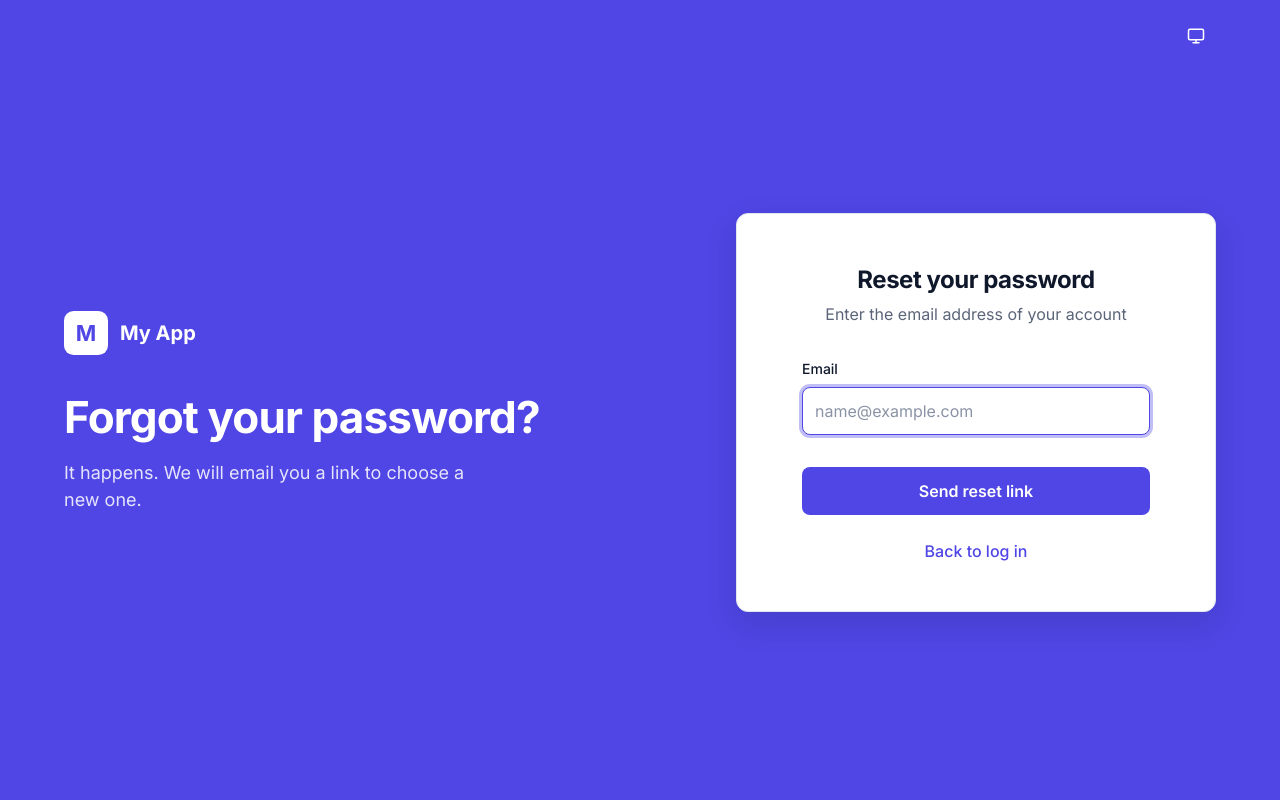
Test: forgot password › sends the email and shows the same message for every address
Check: the heading "Reset your password" is shown, box [857,264,1095,294]
In the field labelled "Email": [976, 410] box [802,386,1150,434], type "  ada@example.com "
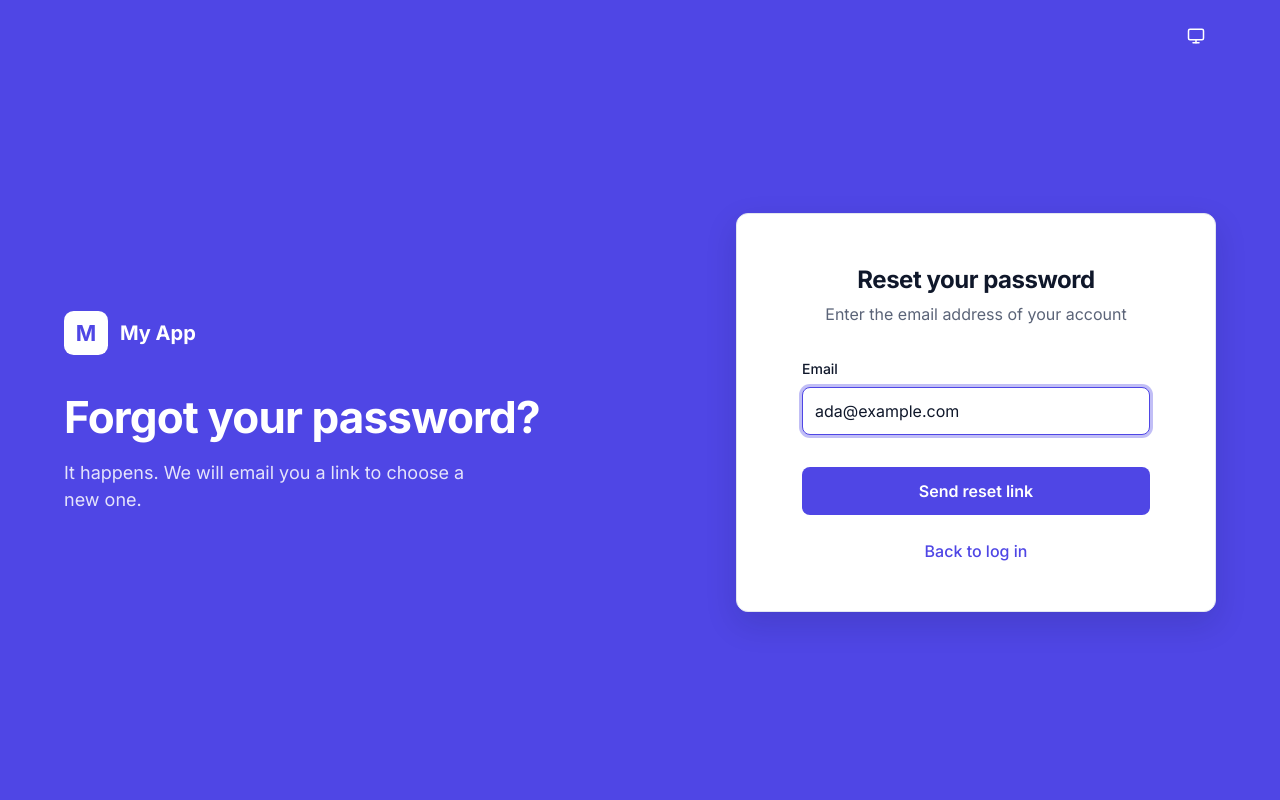
Click the button "Send reset link": [976, 490] box [802,466,1150,514]
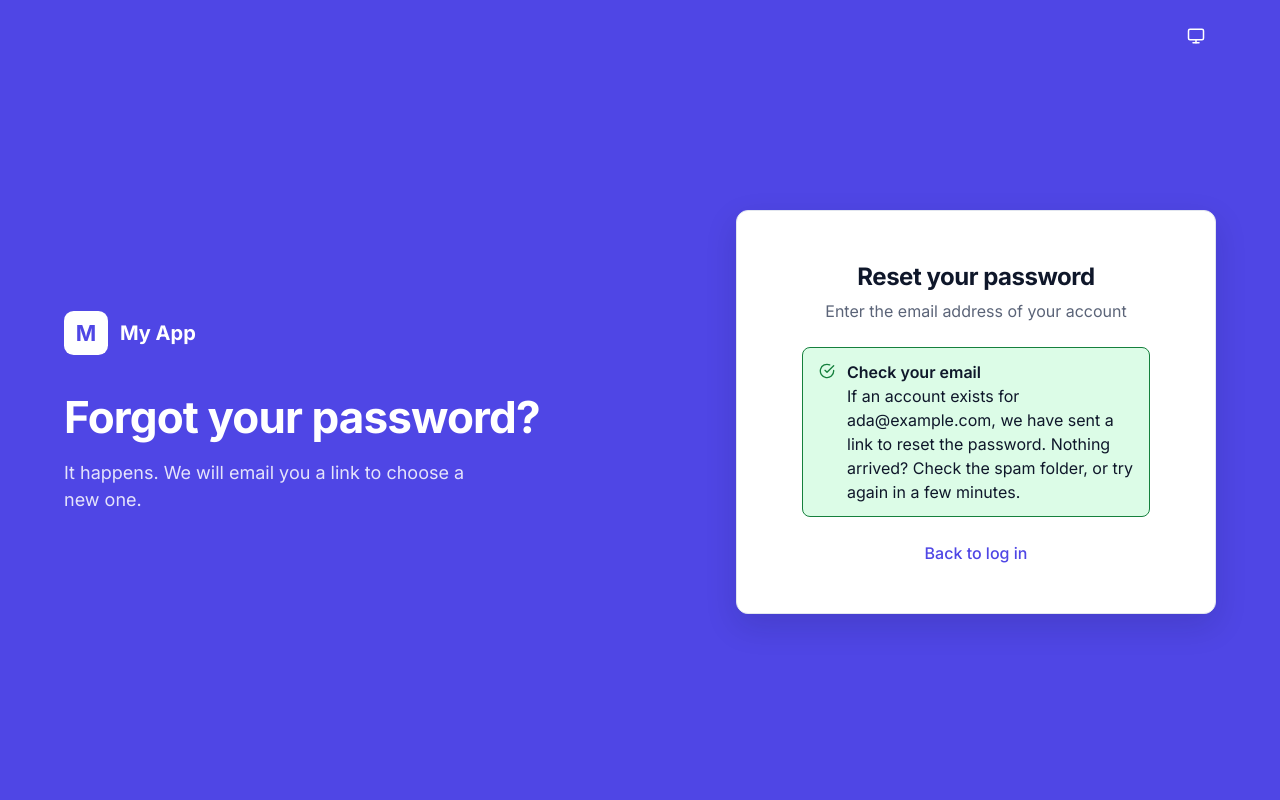
Check: the text "Check your email" is shown, box [847,362,981,382]
Check: the message shows "If an account exists for ada@example.com, we have sent a link", box [802,347,1150,517]
Check: the button "Send reset link" is gone
